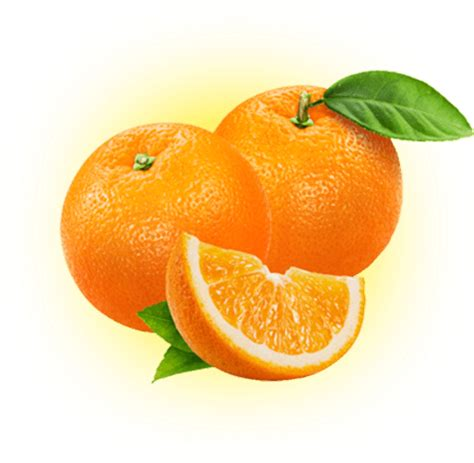orange: (56, 121, 266, 325), (214, 83, 403, 276)
